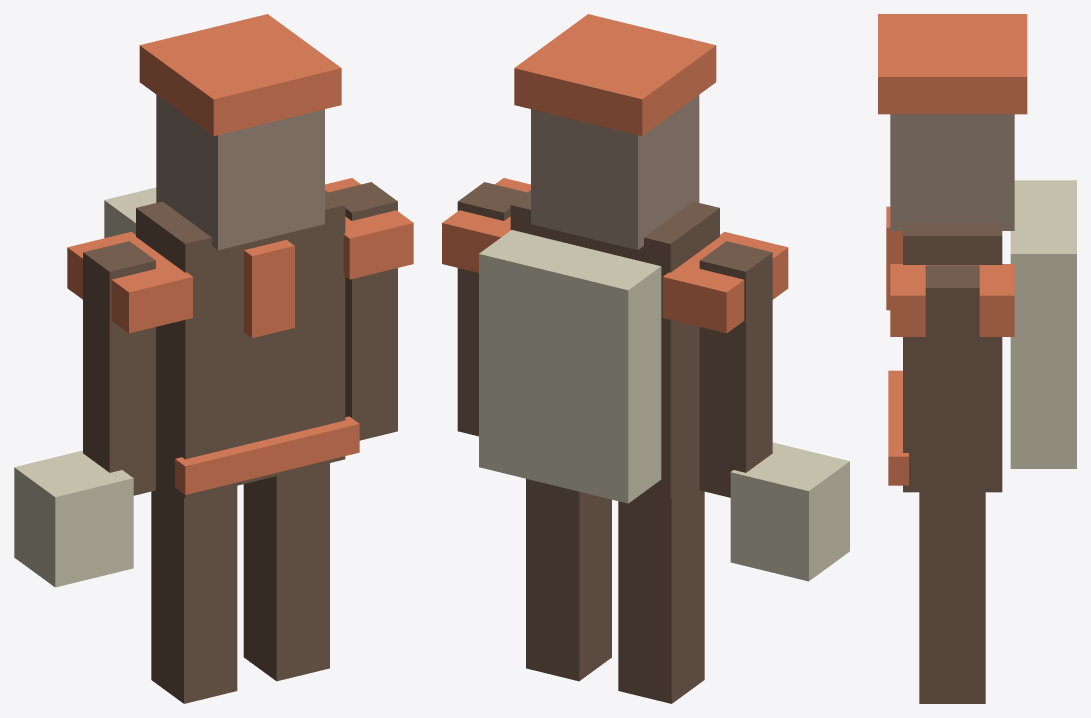
File: 02_kael_ashvein_archivist_near_watcher.glb
3 views of the same model, side by side, from view 1: azimuth 30°, elevation 25°; view 2: azimuth 150°, elevation 25°; view 3: azimuth 270°, elevation 25° (orthographic).
Parts seen in each view (by area): view 1: Kael Ashvein, Archivist near Watcher; view 2: Kael Ashvein, Archivist near Watcher; view 3: Kael Ashvein, Archivist near Watcher.
Boxes of the visible parts, x1=… form: Kael Ashvein, Archivist near Watcher: x1=14, y1=14, x2=413, y2=703; Kael Ashvein, Archivist near Watcher: x1=442, y1=14, x2=849, y2=703; Kael Ashvein, Archivist near Watcher: x1=878, y1=14, x2=1076, y2=703.
Size of the model in its own units: 0.9892 by 1.65 by 0.4772.
